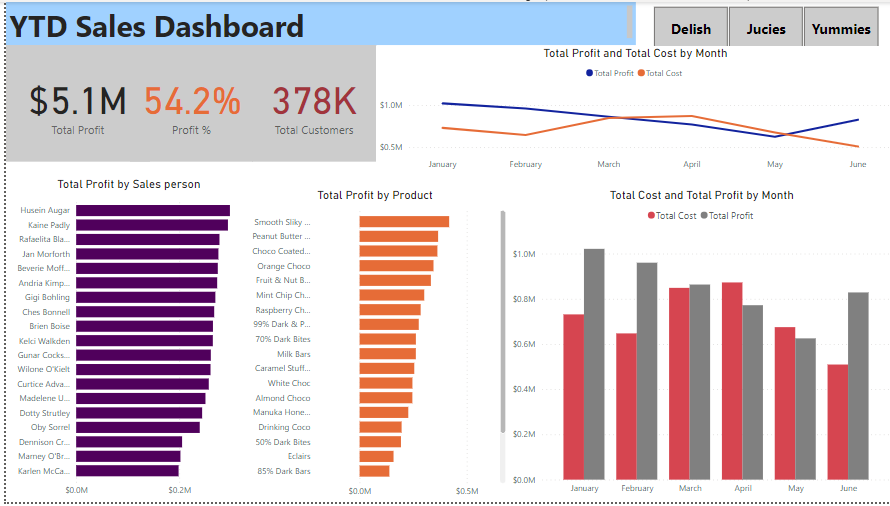

Layout of this report page (visuals, bound fields, positions):
{"tool":"powerbi","page":{"name":"More Insights","canvas":[1280,720],"ordinal":1},"visuals":[{"type":"textbox","box":[0,0,907.2,61.9],"z":0},{"type":"slicer","fields":{"Values":["people.Team"]},"box":[907.3,0,372.7,75.3],"z":1000},{"type":"barChart","fields":{"Category":["people.Sales person"],"Y":["key Measures.Total Profit"]},"box":[0,252.2,353.9,468.7],"z":2000},{"type":"barChart","fields":{"Category":["products.Product"],"Y":["key Measures.Total Profit"]},"box":[338.8,267.3,385.9,453.6],"z":3000},{"type":"card","fields":{"Values":["key Measures.Total Profit"]},"box":[0,62.1,207.1,167.5],"z":4000},{"type":"card","fields":{"Values":["key Measures.Total Customers"]},"box":[353.9,62.1,178.8,167.5],"z":5000},{"type":"card","fields":{"Values":["key Measures.Profit %"]},"box":[178.8,62.1,176.9,167.5],"z":6000},{"type":"lineClusteredColumnComboChart","fields":{"Y":["key Measures.Total Cost","key Measures.Total Profit"],"Category":["sales.Date.Variation.Date Hierarchy.Year","sales.Date.Variation.Date Hierarchy.Quarter","sales.Date.Variation.Date Hierarchy.Month","sales.Date.Variation.Date Hierarchy.Day"]},"box":[724.7,267.3,555.3,449.9],"z":7000},{"type":"lineChart","fields":{"Category":["sales.Date.Variation.Date Hierarchy.Year","sales.Date.Variation.Date Hierarchy.Quarter","sales.Date.Variation.Date Hierarchy.Month","sales.Date.Variation.Date Hierarchy.Day"],"Y":["key Measures.Total Profit","key Measures.Total Cost"]},"box":[532.7,64,747.3,188.2],"z":8000}]}

Visuals, with their boxes in screenshot pixels (x1, y1, x2, y2), scaled from the page's 1280x720 canvas onto the 890x506 screenshot:
textbox: [x1=0, y1=0, x2=631, y2=44]
slicer - people.Team: [x1=631, y1=0, x2=889, y2=53]
barChart - people.Sales person x key Measures.Total Profit: [x1=0, y1=177, x2=246, y2=505]
barChart - products.Product x key Measures.Total Profit: [x1=236, y1=188, x2=504, y2=505]
card - key Measures.Total Profit: [x1=0, y1=44, x2=144, y2=161]
card - key Measures.Total Customers: [x1=246, y1=44, x2=370, y2=161]
card - key Measures.Profit %: [x1=124, y1=44, x2=247, y2=161]
lineClusteredColumnComboChart - key Measures.Total Cost x key Measures.Total Profit: [x1=504, y1=188, x2=889, y2=504]
lineChart - sales.Date.Variation.Date Hierarchy.Year x sales.Date.Variation.Date Hierarchy.Quarter: [x1=370, y1=45, x2=889, y2=177]
